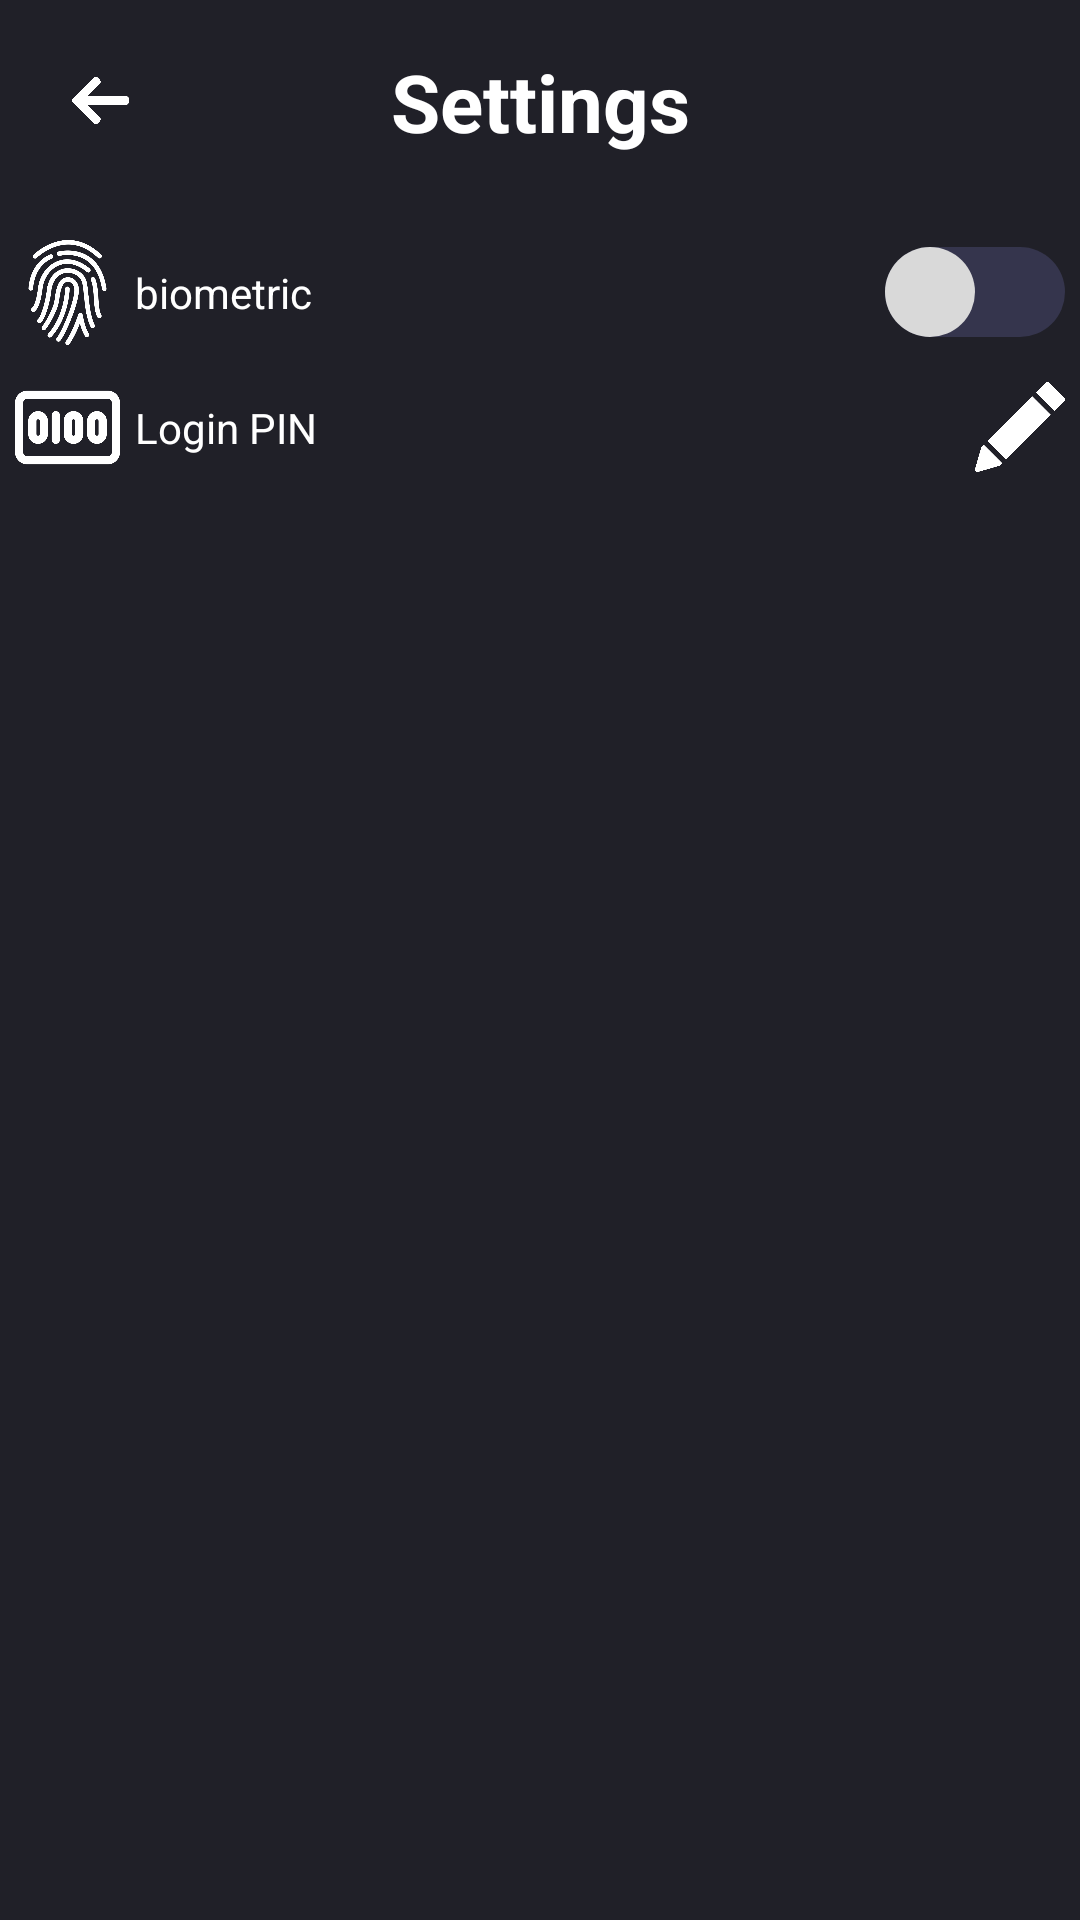

Icon bounding boxes for this 1080 × 1920 phone screenshot, format (x1, y1, x2, y2):
back: (72, 77, 129, 124)
biometria: (28, 240, 107, 345)
lapis: (975, 382, 1065, 472)
